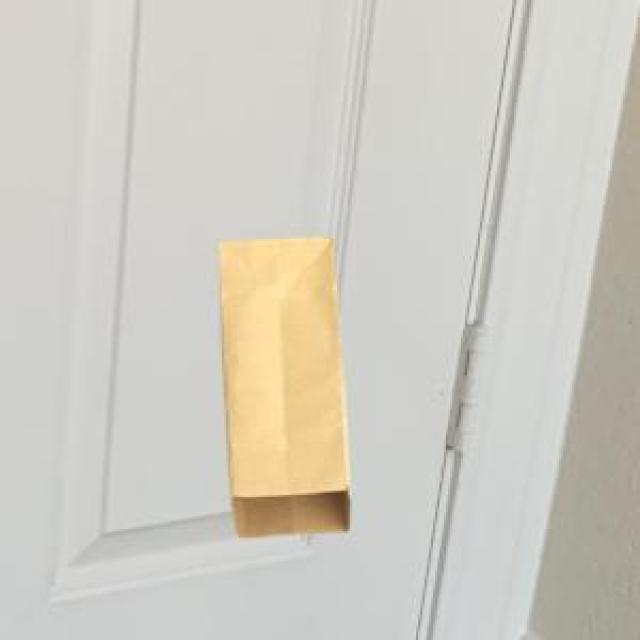paper: (216, 233, 346, 533)
